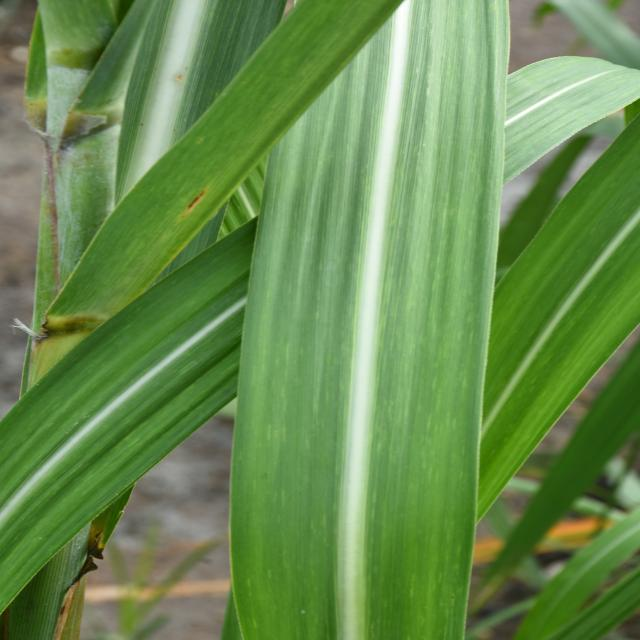Sugarcane: (216, 0, 518, 640)
